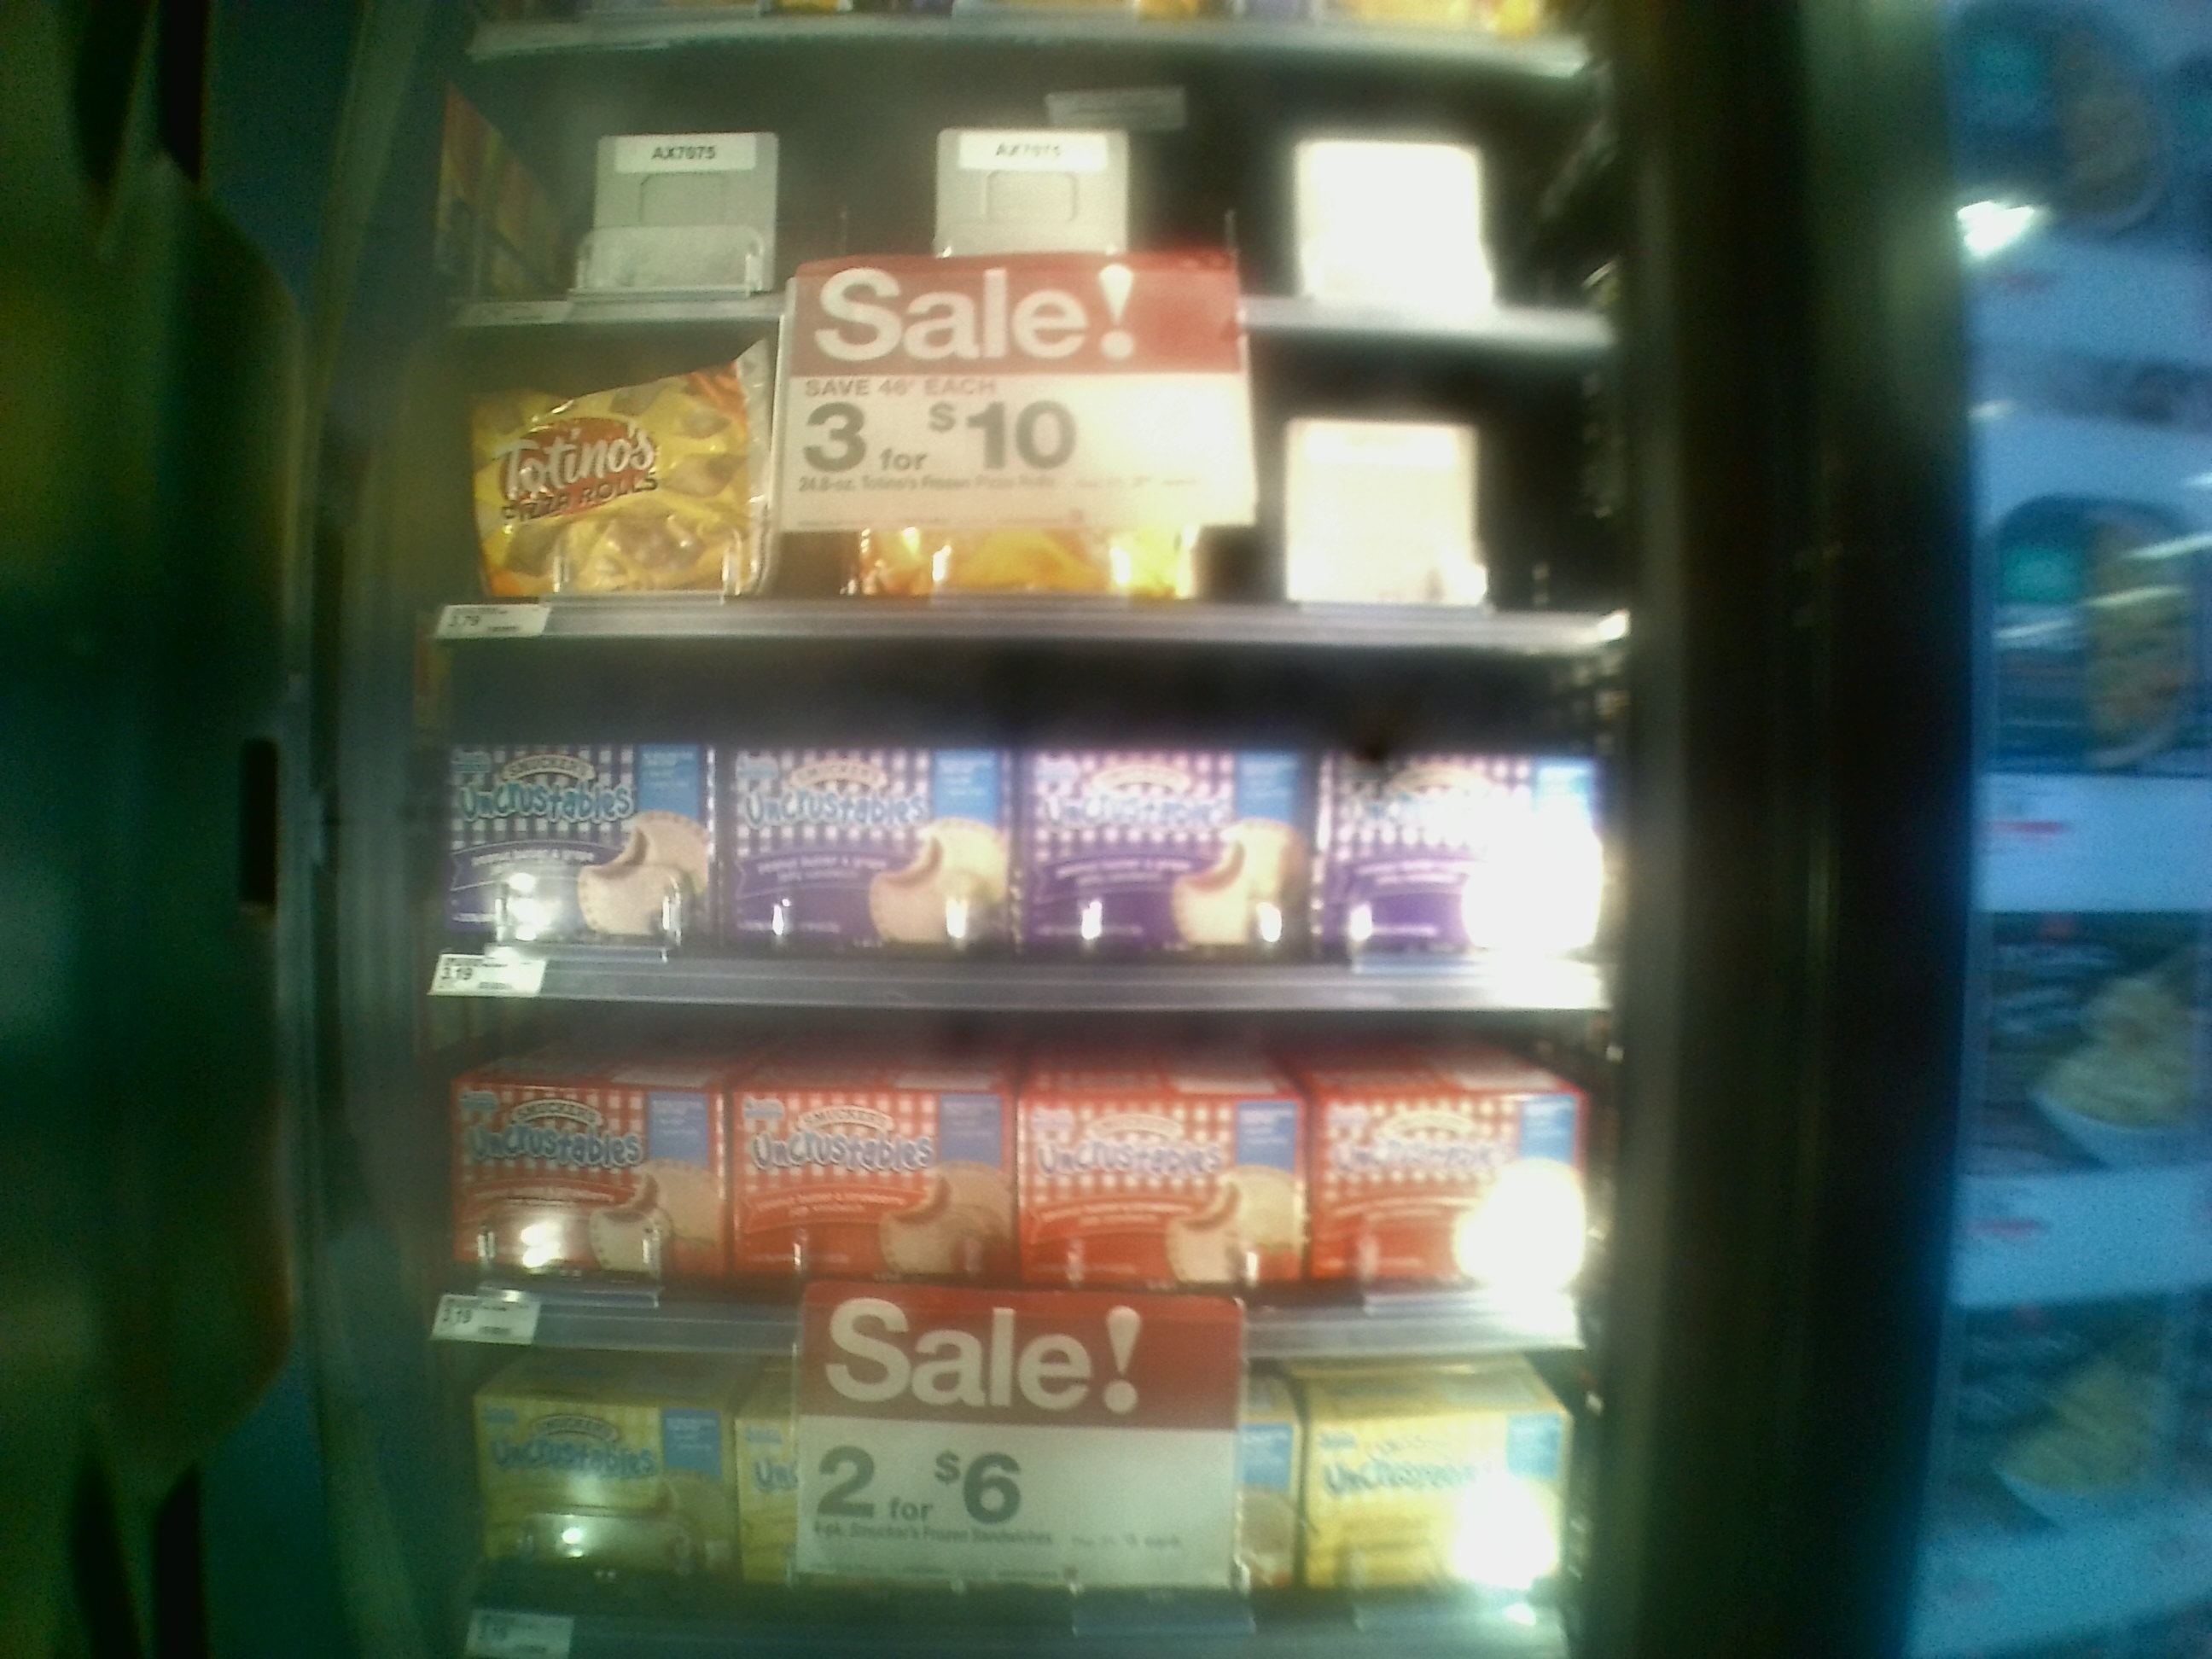shelf: (404, 650, 1635, 1023), (397, 1016, 1599, 1363), (432, 328, 1622, 662)
